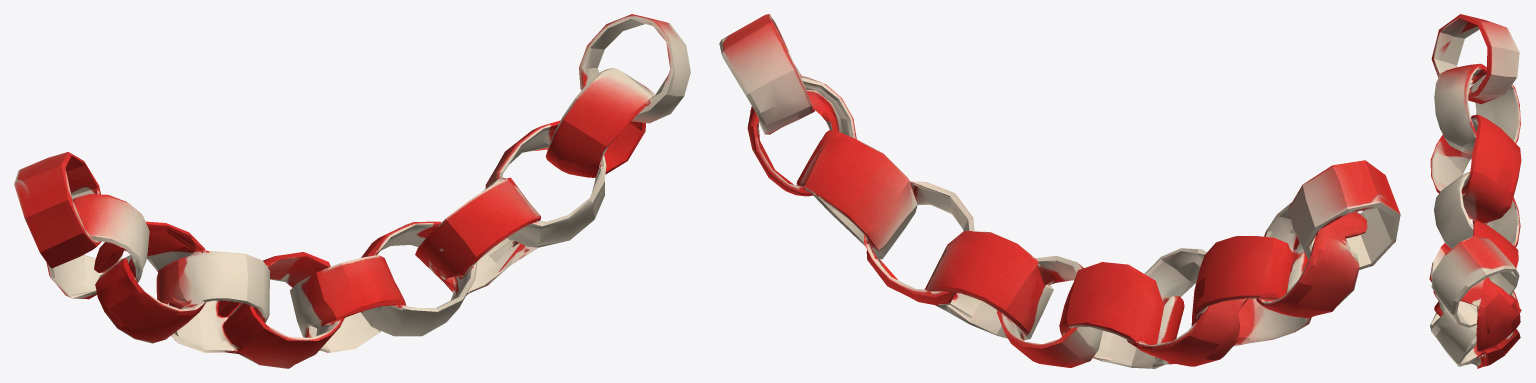
The model's file is sus-zinciri.glb.
3 views of the same model, side by side, from view 1: azimuth 30°, elevation 25°; view 2: azimuth 150°, elevation 25°; view 3: azimuth 270°, elevation 25° (orthographic). The views are drawn at different scales.
Visible parts, largest first — view 1: Mesh0; view 2: Mesh0; view 3: Mesh0.
Part boxes in pixels (box(x1,y1,x2,y2)): Mesh0: box(14, 14, 690, 368); Mesh0: box(719, 14, 1400, 368); Mesh0: box(1429, 14, 1521, 368).
Bounding box in the file's own units: 1.9 × 0.7368 × 0.288.
Materials: 1 (1 with a texture image).
